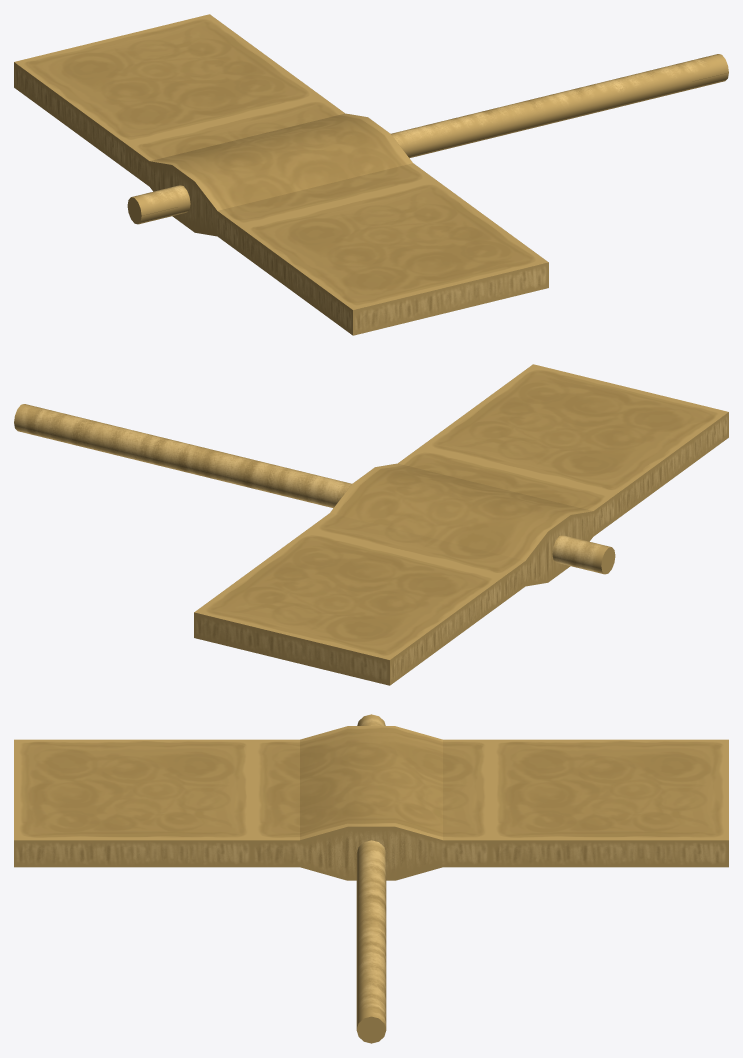
Rendered from floor.revolve.gltf.
3 renders of one model, top to bottom at view 1: azimuth 30°, elevation 25°; view 2: azimuth 150°, elevation 25°; view 3: azimuth 270°, elevation 25°, orthographic. The views are drawn at different scales.
Visible parts, largest first — view 1: floor.revolve.000; view 2: floor.revolve.000; view 3: floor.revolve.000.
Part boxes in pixels (x1=…): floor.revolve.000: x1=14, y1=14, x2=728, y2=335; floor.revolve.000: x1=14, y1=364, x2=728, y2=685; floor.revolve.000: x1=14, y1=714, x2=728, y2=1043.
Bounding box in the file's own units: 24 × 2 × 24.
1 material, 1 textured.
